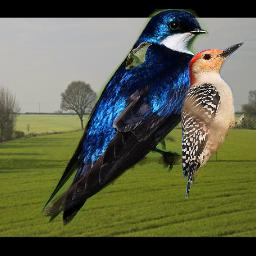Cuckoo: (125, 42, 152, 70)
Swallow: (39, 9, 209, 227)
Woodpecker: (181, 41, 244, 199)
